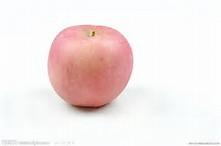apple: (49, 24, 134, 110)
